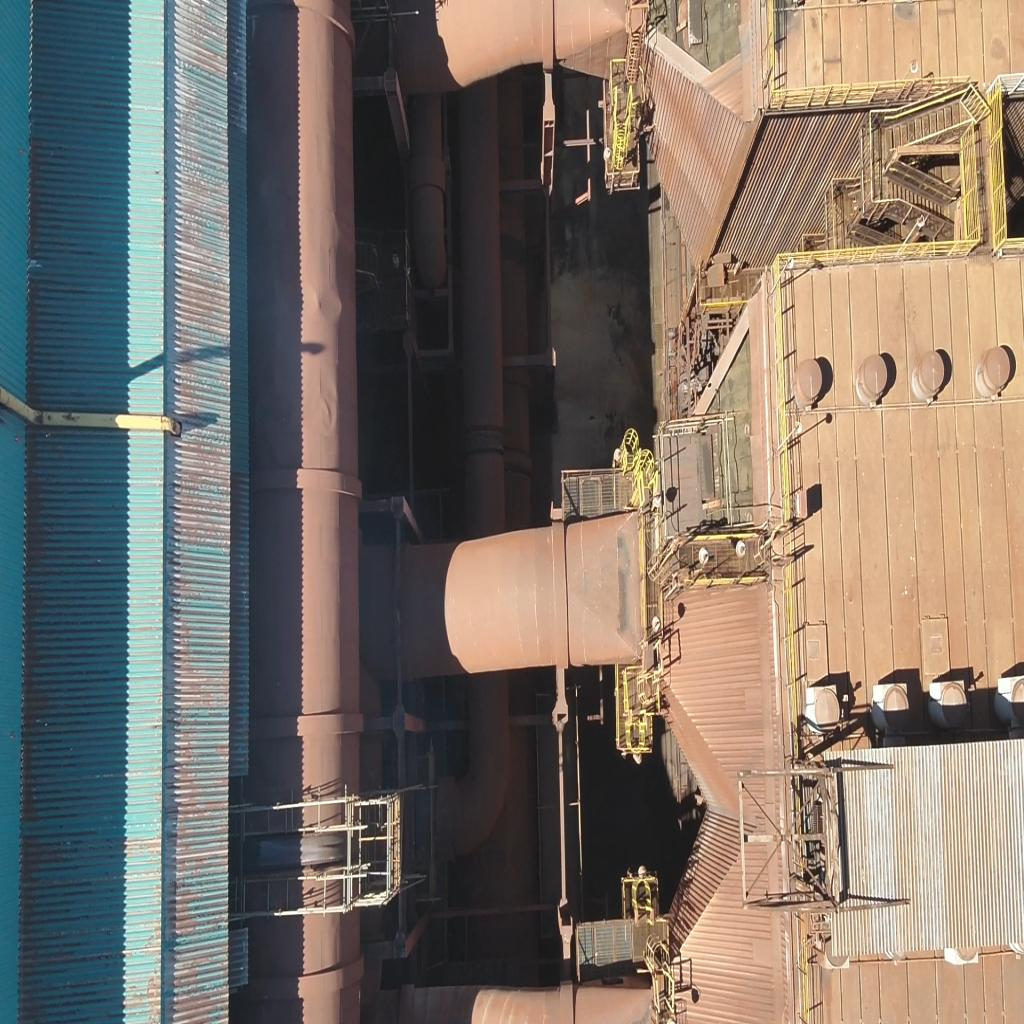Failures: (697, 338, 753, 555)
